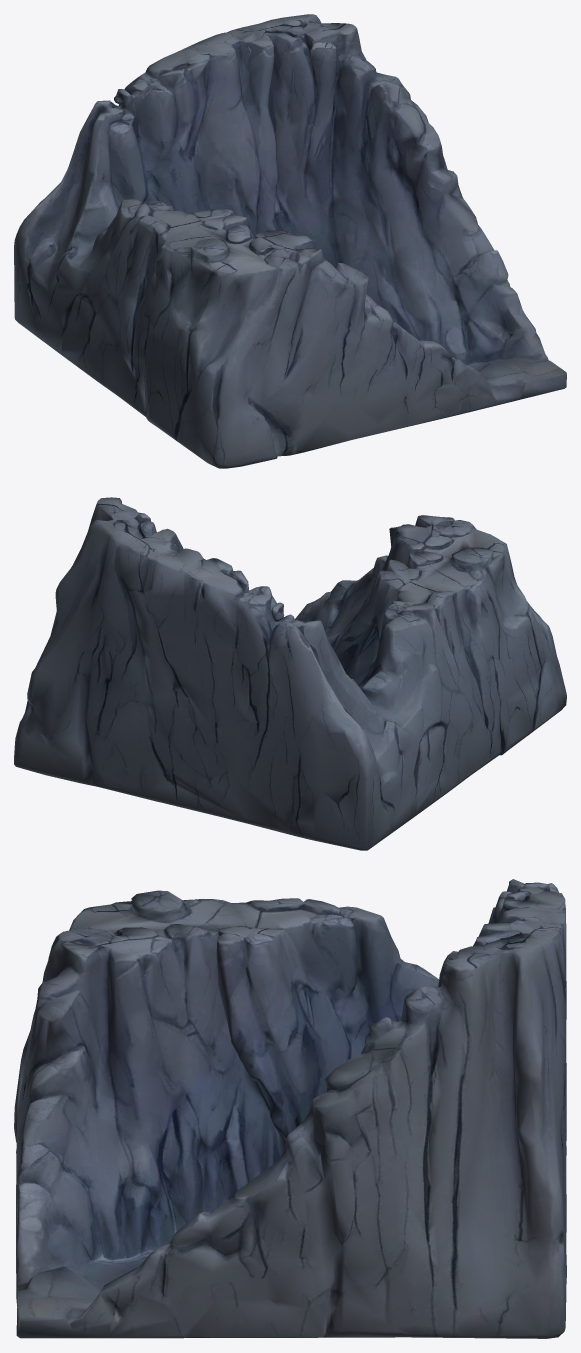
The picture shows the model from 3 angles, top to bottom: view 1: azimuth 30°, elevation 25°; view 2: azimuth 150°, elevation 25°; view 3: azimuth 270°, elevation 25°; orthographic projection. The views are drawn at different scales.
Parts seen in each view (by area): view 1: tripo_node_90fd6a75-2a94-4bfc-8451-cb4107550388; view 2: tripo_node_90fd6a75-2a94-4bfc-8451-cb4107550388; view 3: tripo_node_90fd6a75-2a94-4bfc-8451-cb4107550388.
Part boxes in pixels (box(x1,y1,x2,y2)): tripo_node_90fd6a75-2a94-4bfc-8451-cb4107550388: box(14, 14, 566, 468); tripo_node_90fd6a75-2a94-4bfc-8451-cb4107550388: box(14, 497, 566, 850); tripo_node_90fd6a75-2a94-4bfc-8451-cb4107550388: box(14, 879, 566, 1338).
Size of the model in its own units: 0.9992 by 0.6777 by 0.9974.
Materials: 1 (1 with a texture image).
